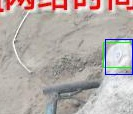text: (103, 42, 132, 67)
